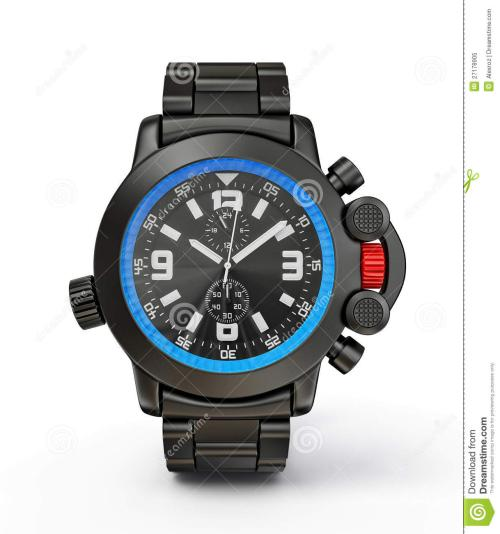watch: (54, 45, 409, 483)
